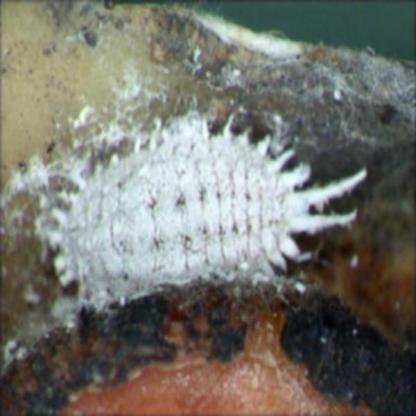mealy bug: (46, 110, 366, 311)
